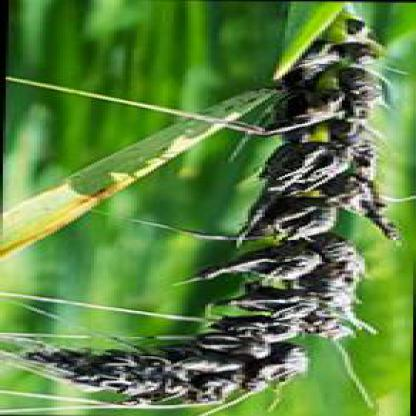Wheat Smut: (190, 350, 266, 386), (104, 358, 184, 390), (258, 204, 324, 236), (294, 243, 353, 278), (273, 160, 327, 187), (288, 68, 330, 100), (282, 297, 347, 314), (334, 162, 367, 193), (33, 351, 96, 366), (281, 108, 310, 138), (228, 318, 302, 329), (341, 71, 370, 99), (284, 143, 350, 155), (235, 256, 285, 270), (204, 334, 260, 346), (278, 351, 301, 372), (66, 369, 100, 383), (344, 45, 379, 58), (296, 283, 346, 292), (242, 295, 274, 308), (348, 104, 366, 126), (339, 131, 368, 143), (349, 201, 382, 209), (200, 391, 221, 403), (264, 192, 290, 200), (146, 394, 165, 402)
